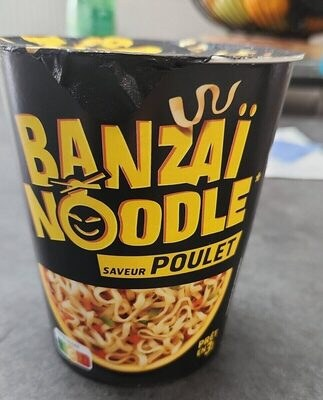Banzai noodle: (16, 20, 307, 380)
